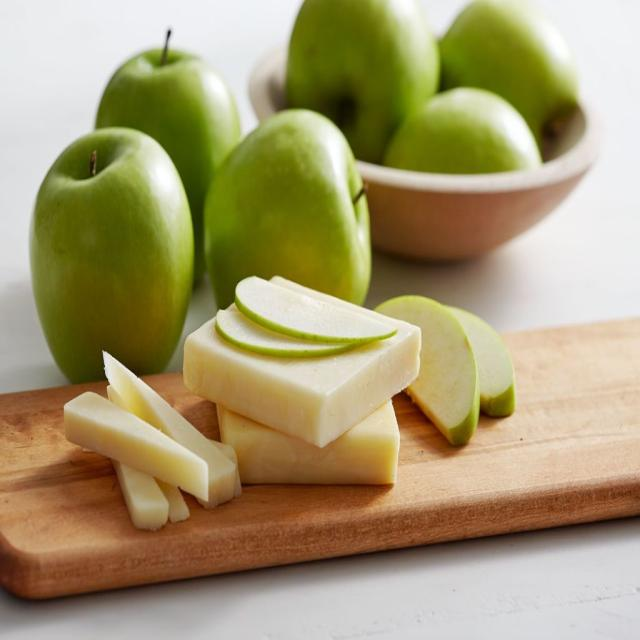Healty Apple: (27, 122, 204, 390), (95, 28, 240, 290), (200, 108, 376, 316), (285, 0, 446, 166), (439, 0, 579, 160), (368, 292, 480, 448), (388, 88, 545, 172), (232, 272, 394, 340), (439, 305, 516, 417), (216, 304, 368, 360)
